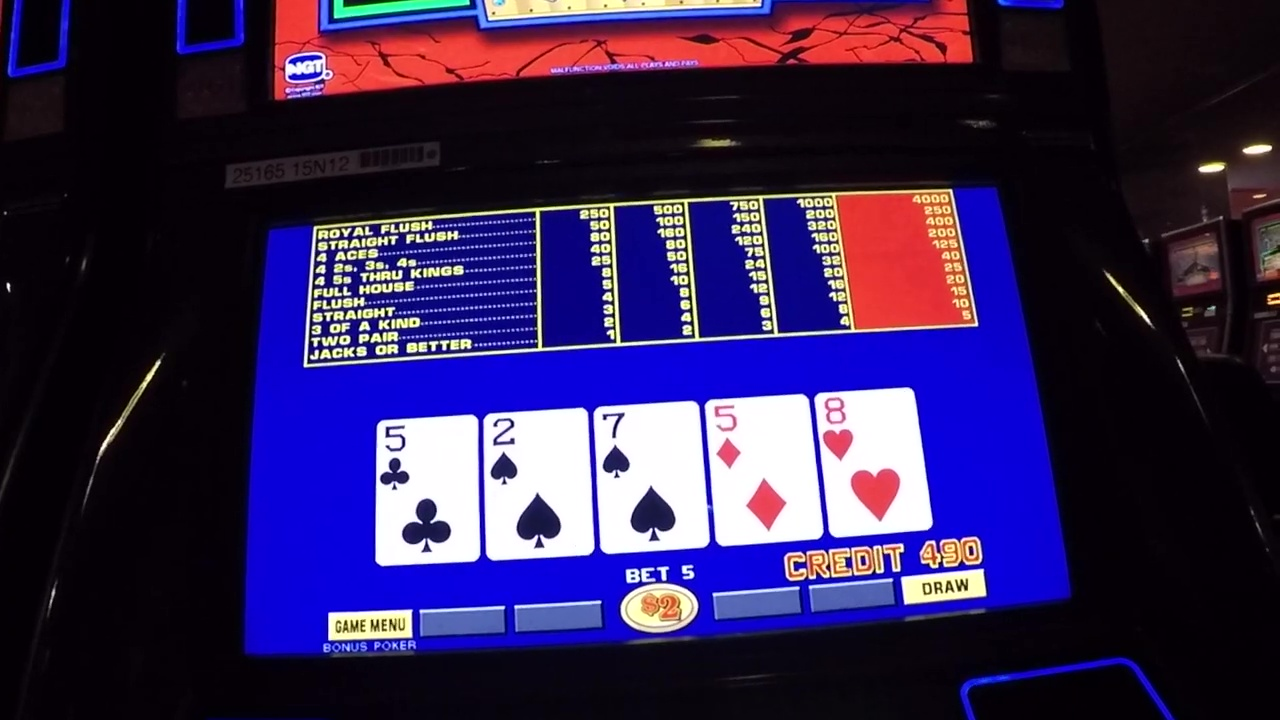C5: (381, 420, 473, 489)
D5: (715, 400, 807, 468)
H8: (825, 394, 912, 462)
S2: (487, 416, 587, 486)
S7: (598, 408, 697, 480)
